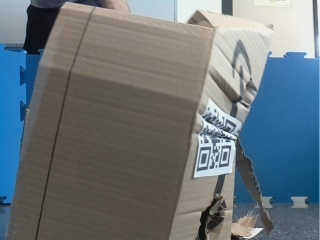caja_rota: (6, 12, 275, 240)
